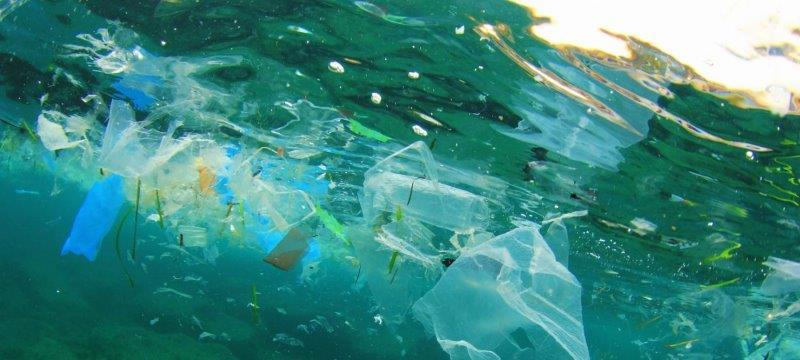plastic: (97, 101, 325, 218), (405, 227, 593, 360), (354, 142, 497, 228)
